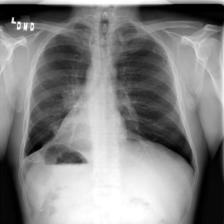normal: (20, 18, 198, 180)
